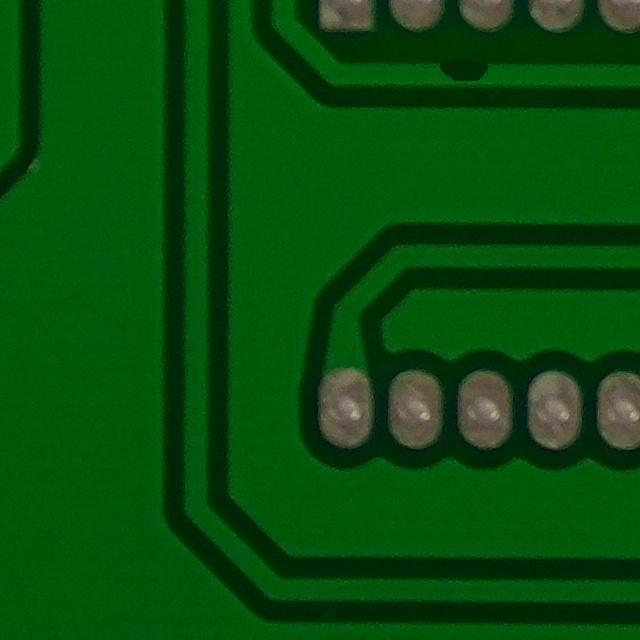mouse_bite: (420, 42, 506, 104)
